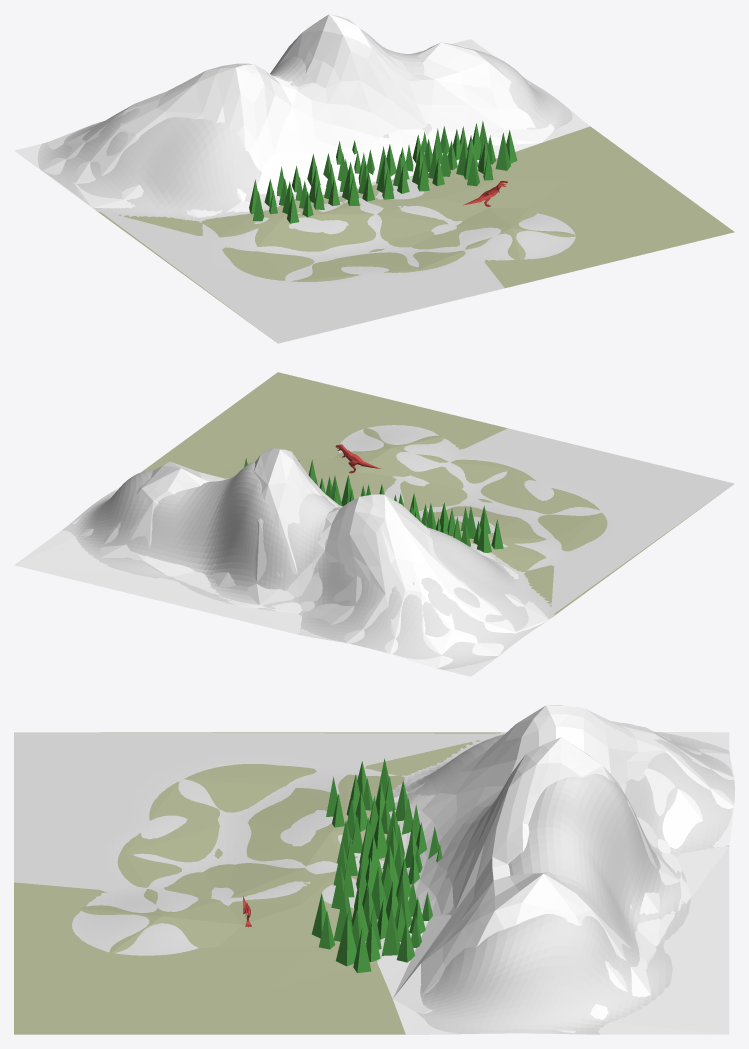
The picture shows the model from 3 angles, top to bottom: view 1: azimuth 30°, elevation 25°; view 2: azimuth 150°, elevation 25°; view 3: azimuth 270°, elevation 25°; orthographic projection. The views are drawn at different scales.
Visible parts, largest first — view 1: landscape.original, landscape.001, landscape; view 2: landscape.original, landscape.001, landscape; view 3: landscape.original, landscape, landscape.001, Cone.020.
Boxes of the visible parts, <box> form: landscape.original: <box>33,29,576,343</box>; landscape.001: <box>14,14,589,217</box>; landscape: <box>96,126,734,331</box>; landscape.original: <box>62,425,734,669</box>; landscape.001: <box>14,448,548,676</box>; landscape: <box>142,372,721,617</box>; landscape.original: <box>14,723,734,1034</box>; landscape: <box>14,732,500,1034</box>; landscape.001: <box>377,705,734,1034</box>; Cone.020: <box>336,913,356,966</box>.
Size of the model in its own units: 60.21 by 15.65 by 60.47.
